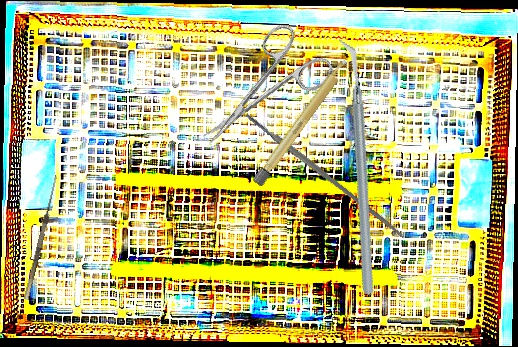Chopper: (260, 36, 453, 297)
Hook Surgical: (17, 173, 60, 301)
Iris Scissors: (179, 15, 339, 167)
Scalpel Handle: (243, 110, 407, 240), (252, 54, 353, 188)
